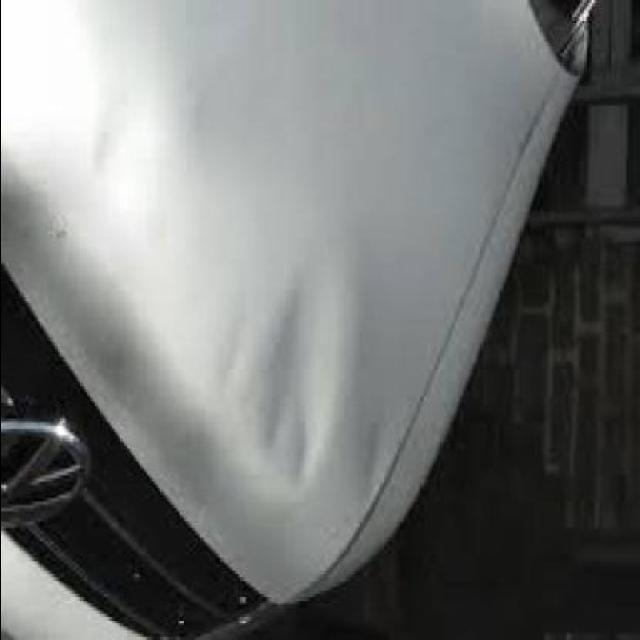front-bumper-dent: (171, 269, 346, 506), (64, 5, 194, 226), (354, 416, 408, 493)
